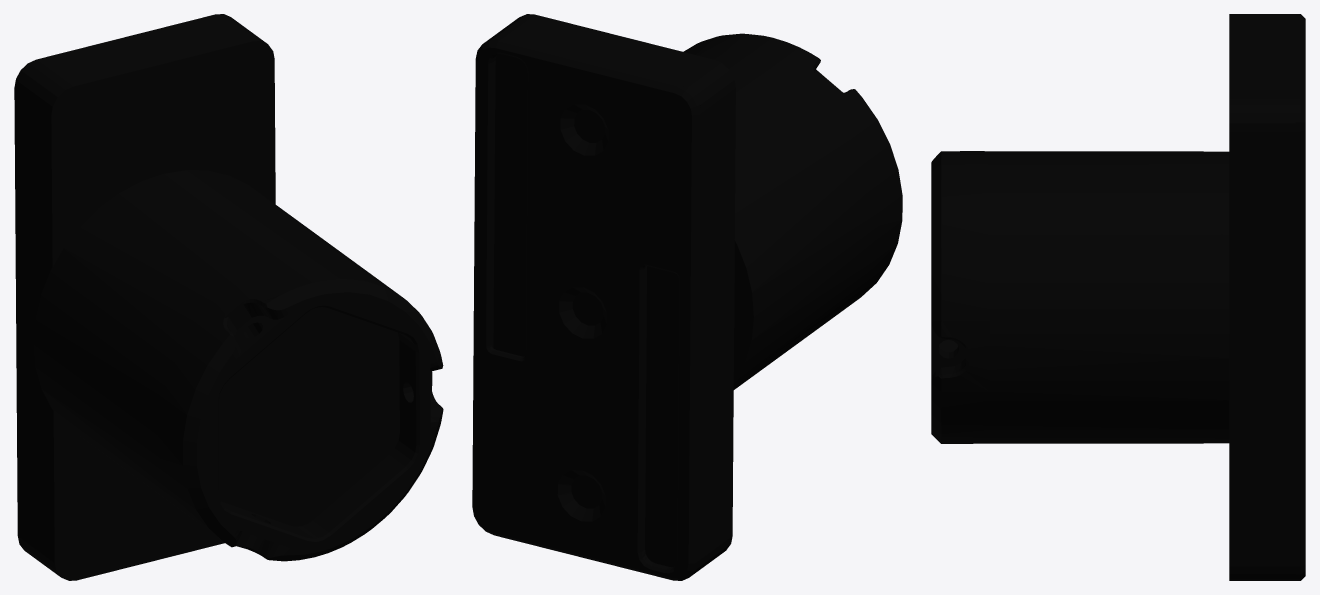
The model's file is left_gripper_link.obj.
3 views of the same model, side by side, from view 1: azimuth 30°, elevation 25°; view 2: azimuth 150°, elevation 25°; view 3: azimuth 270°, elevation 25° (orthographic). The views are drawn at different scales.
Visible parts, largest first — view 1: left_gripper_link; view 2: left_gripper_link; view 3: left_gripper_link.
Part boxes in pixels (x1,y1,x2,y2): left_gripper_link: [14, 14, 443, 580]; left_gripper_link: [472, 14, 902, 580]; left_gripper_link: [931, 14, 1305, 580].
Size of the model in its own units: 0.06 by 0.1083 by 0.0767.
1 material, 1 textured.
